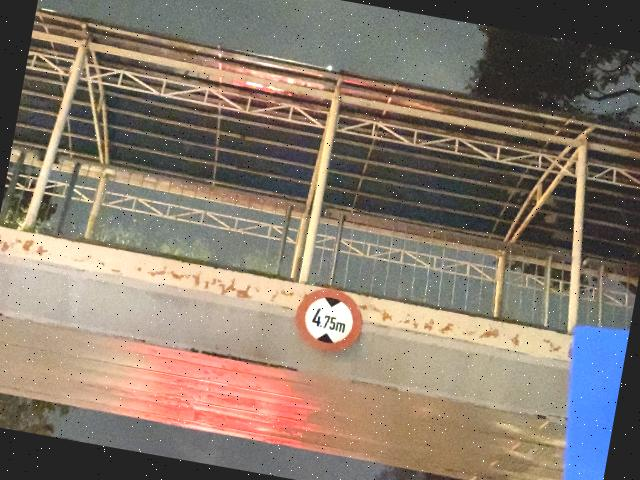han-che-chieu-cao: (290, 282, 370, 358)
